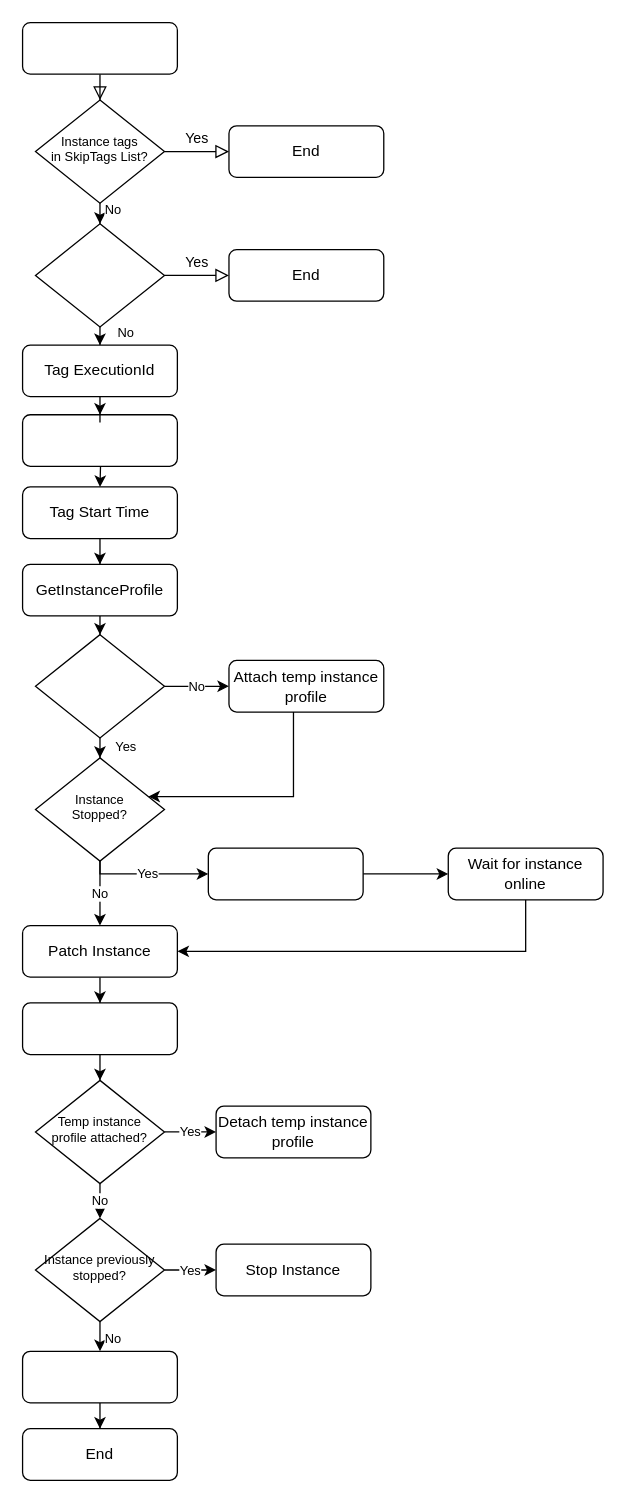
Image size: 626x1503. Some labels were removed from this diagram. Each missing label, with the centre of its shape:
Begin: the point at 99,47
Gather Inventory: the point at 99,1028
Has instance profile?: the point at 99,685
Patching automation already running?: the point at 99,275
Start Instance: the point at 285,873
Tag Instance State: the point at 99,439
Untag Instance State: the point at 99,1376
